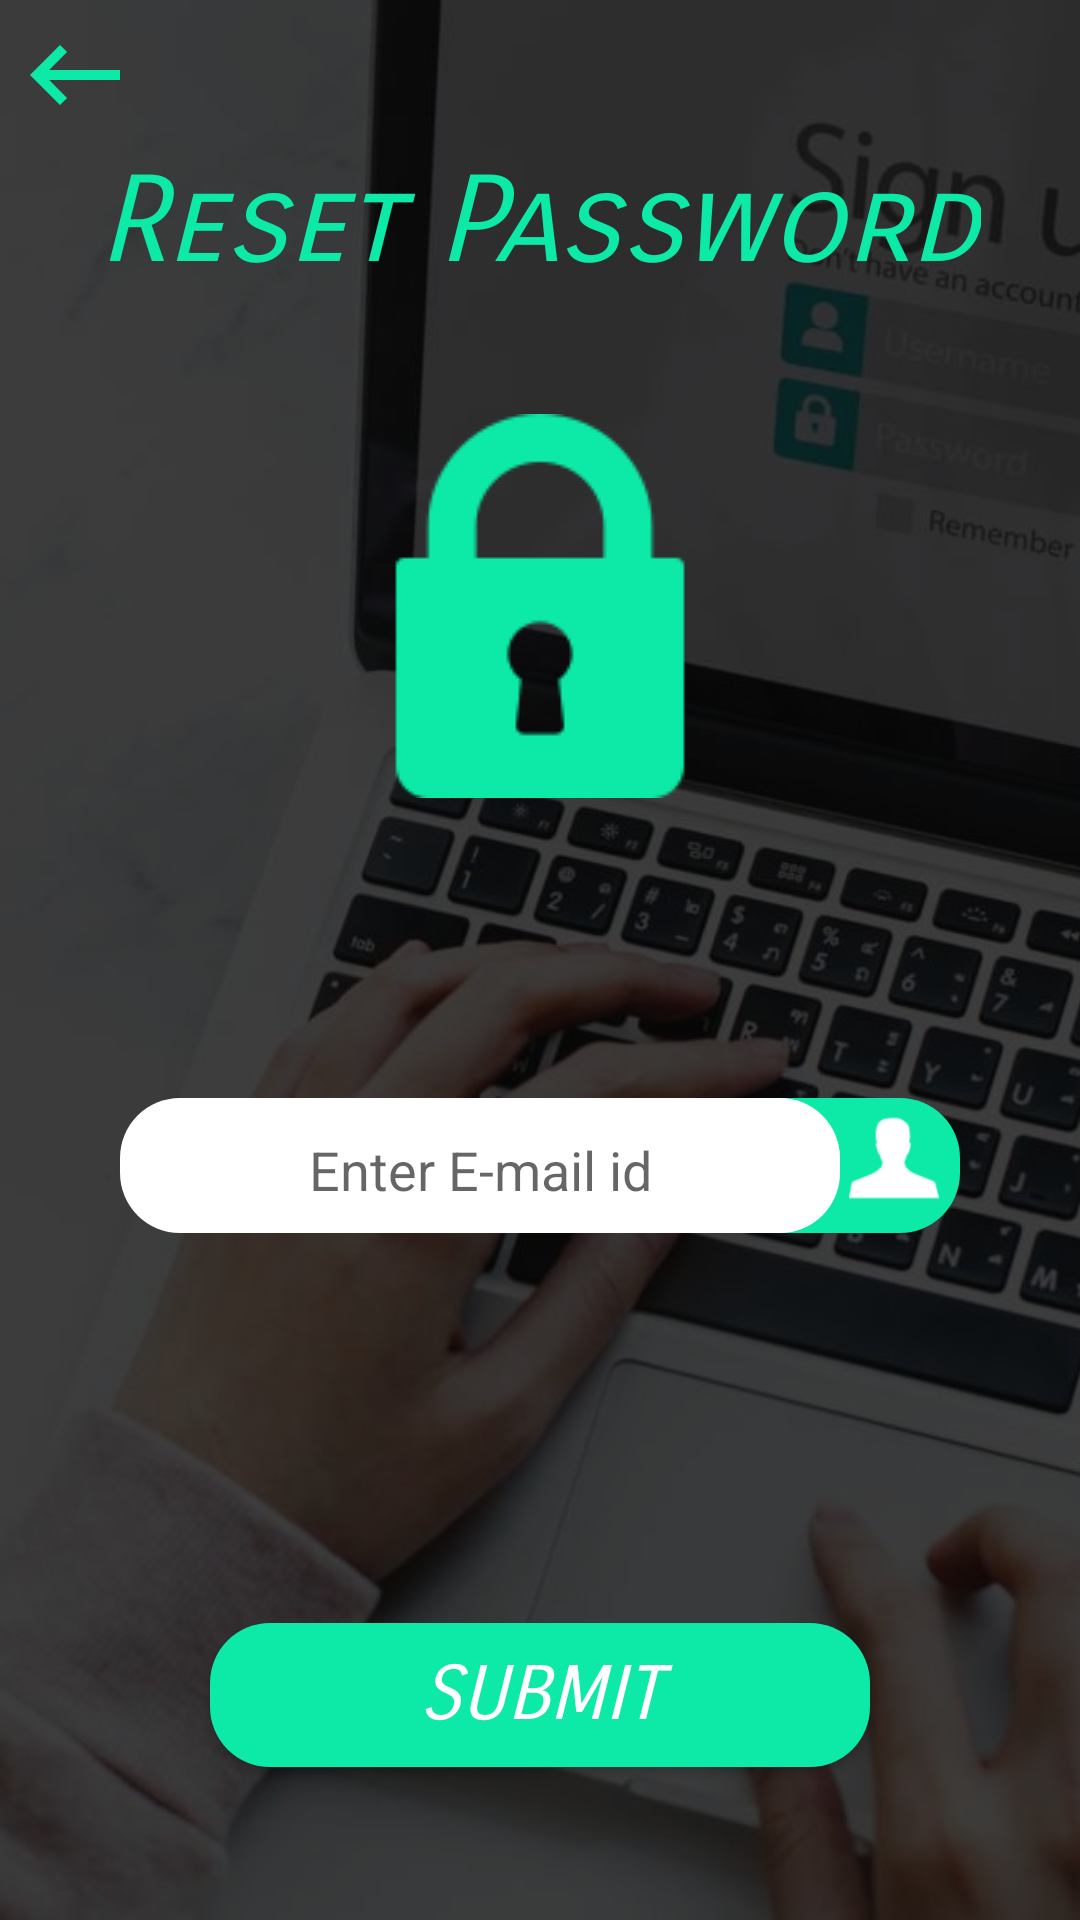

Locate icon controls on the screen. Image size 1080×1920, boxes as detection(x1, y1, x2, y2).
back: detection(30, 45, 120, 105)
